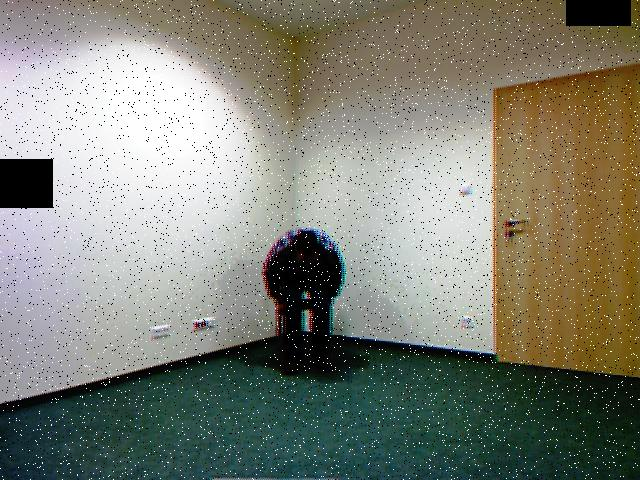bending: (261, 204, 346, 384)
